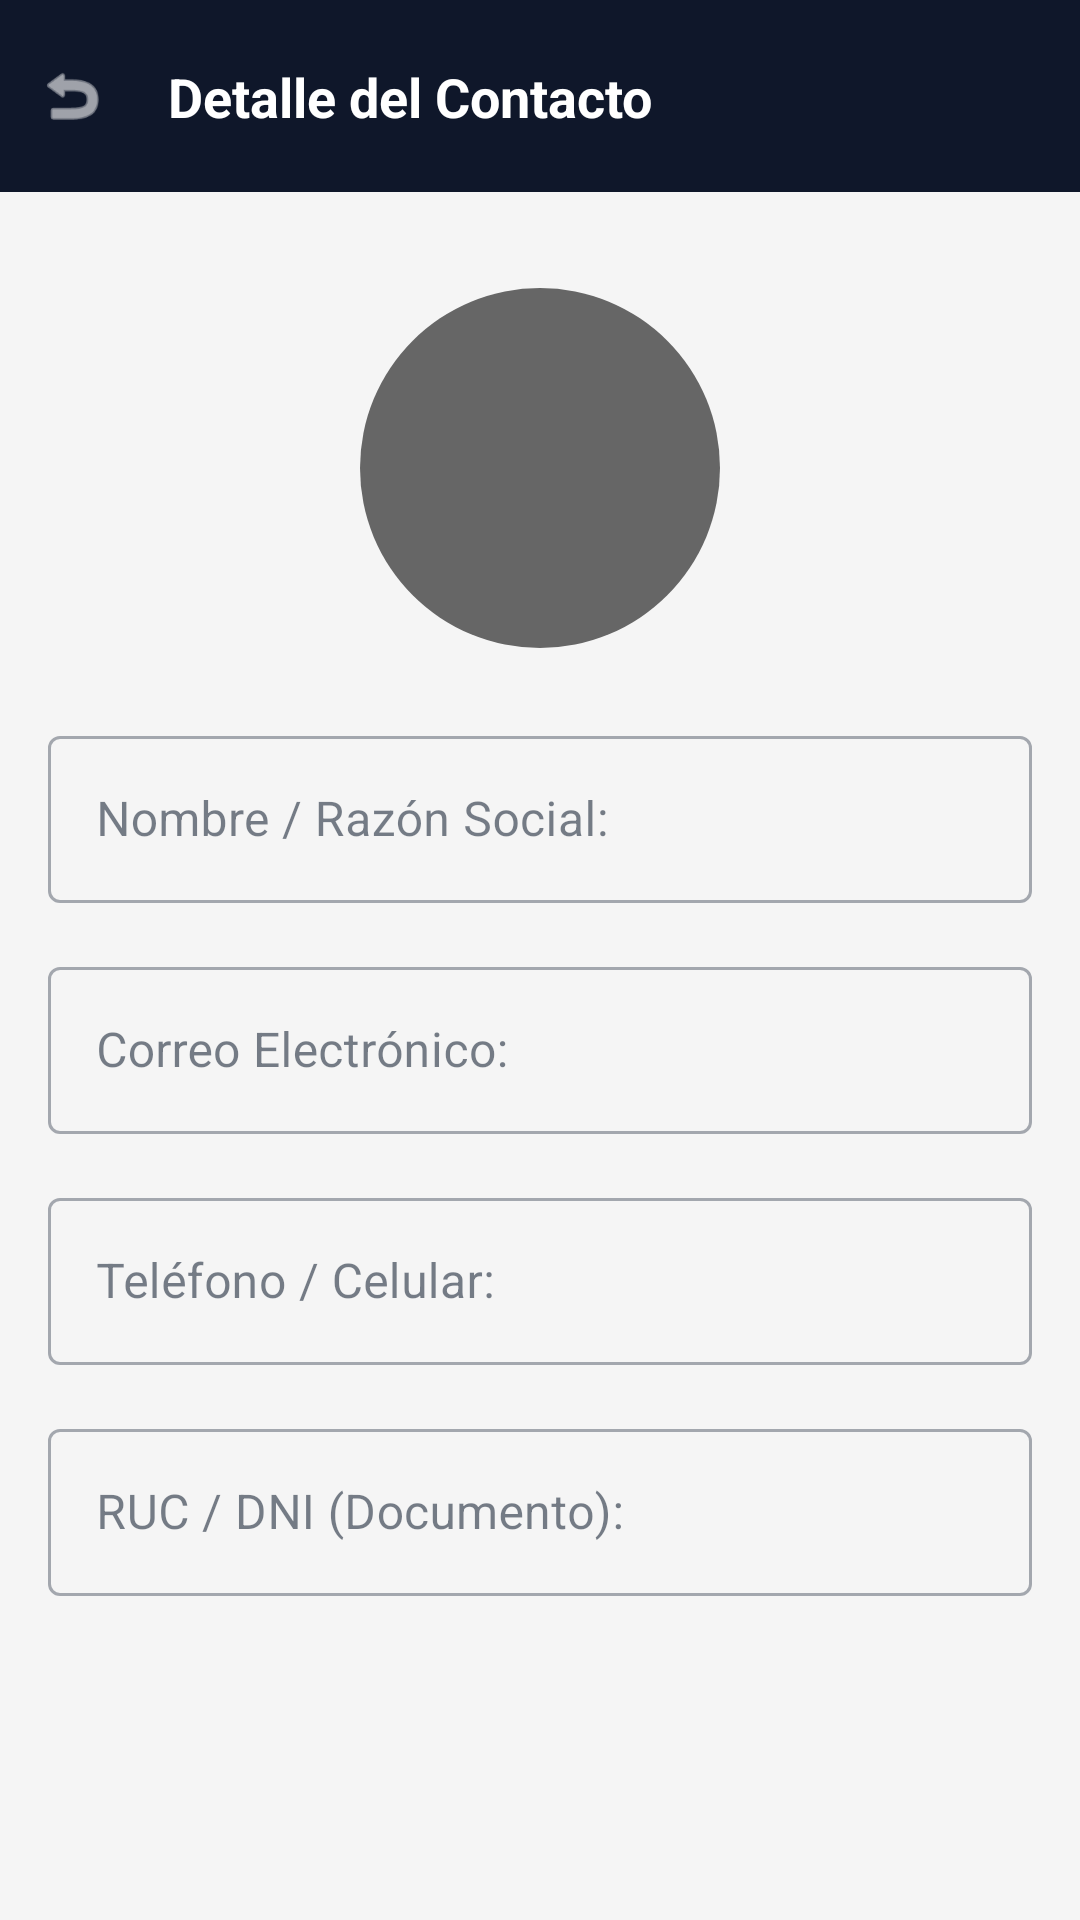

Locate icon controls on the screen. Image size 1080px×1920px, boxes as (x1,y1,x2,y2).
revert: (47,73,99,120)
